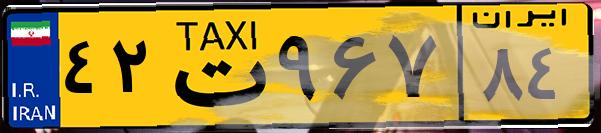2: (110, 28, 158, 98)
4: (57, 26, 110, 100), (525, 38, 570, 115)
6: (330, 28, 385, 110)
7: (385, 28, 445, 110)
8: (475, 38, 525, 113)
9: (270, 28, 330, 110)
ت: (158, 12, 270, 120)
